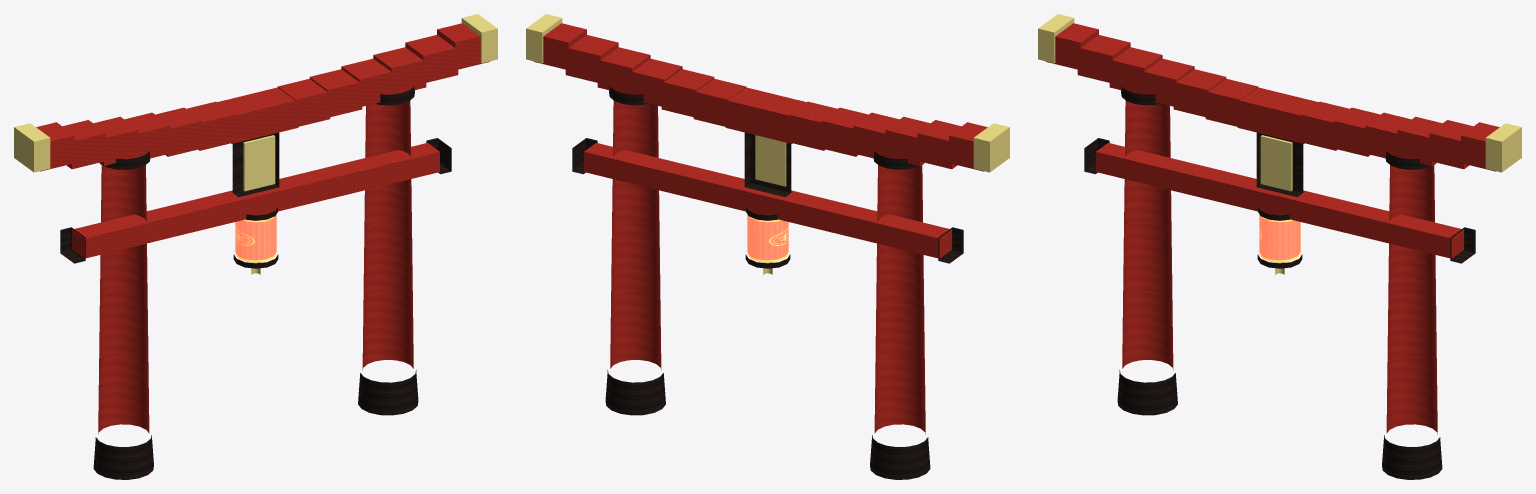
File: asian_torii_gate.glb
The picture shows the model from 3 angles, left to right: view 1: azimuth 30°, elevation 25°; view 2: azimuth 150°, elevation 25°; view 3: azimuth 330°, elevation 25°; orthographic projection.
Parts seen in each view (by area): view 1: ModelRoot; view 2: ModelRoot; view 3: ModelRoot.
Part boxes in pixels (x1,y1,x2,y2): ModelRoot: (14, 14, 497, 479); ModelRoot: (526, 14, 1009, 479); ModelRoot: (1038, 14, 1521, 479).
Bounding box in the file's own units: 9.12 × 6.71 × 1.04.
Materials: 4 (3 with a texture image).
